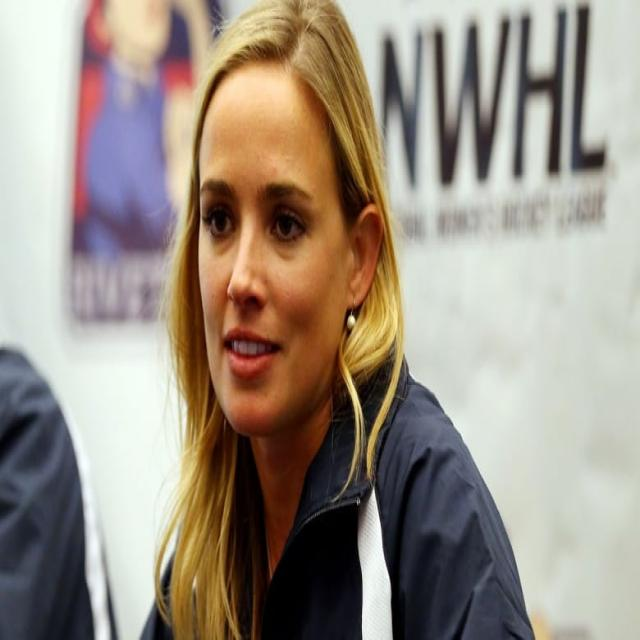human: (153, 4, 538, 640)
